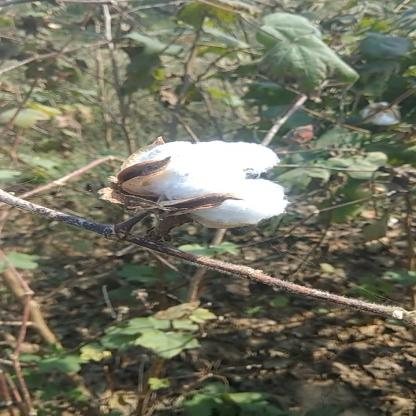cotton_ready: (104, 131, 298, 270)
